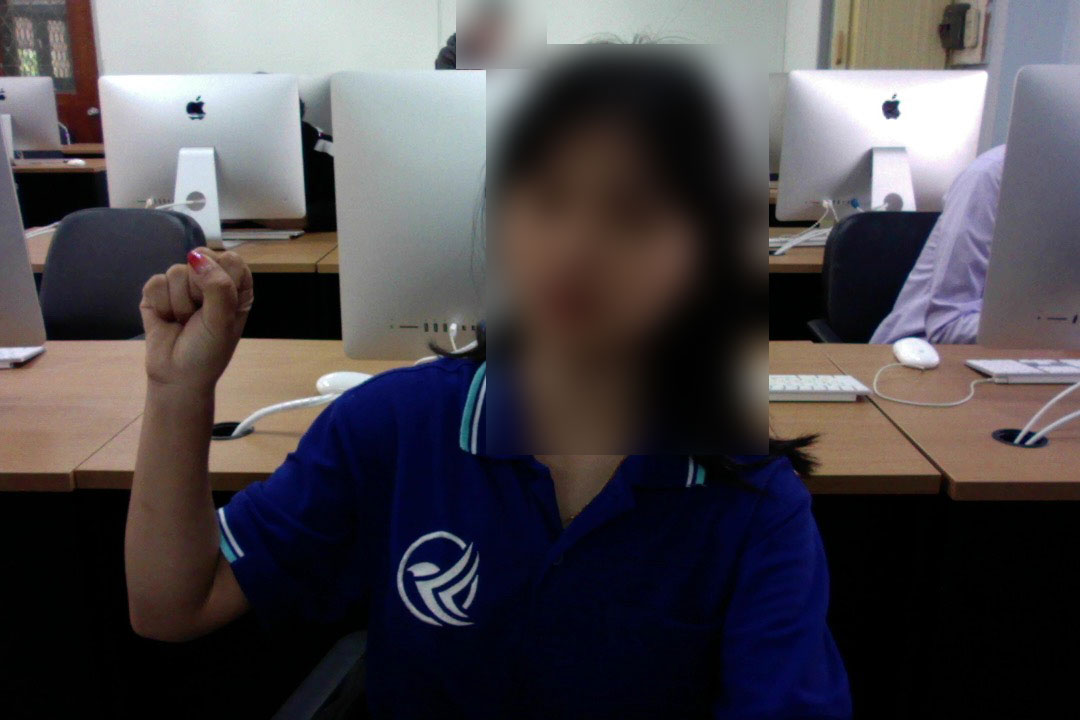sor: (133, 243, 261, 390)
